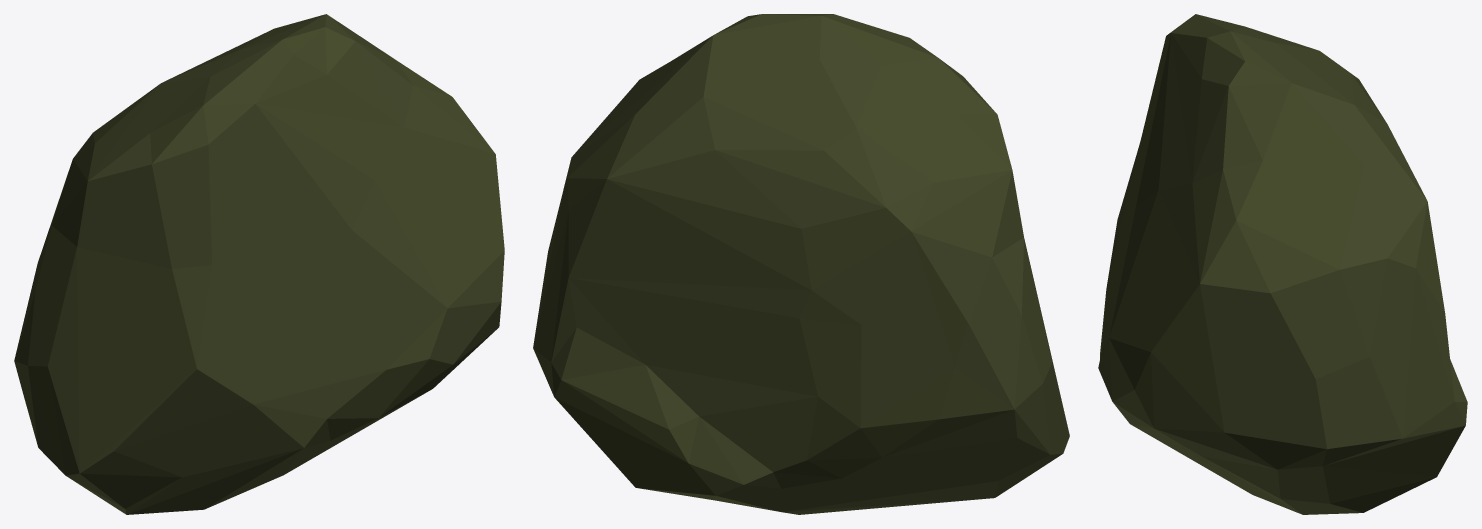
File: SM_small_rock_23.fbx
3 renders of one model, left to right at view 1: azimuth 30°, elevation 25°; view 2: azimuth 150°, elevation 25°; view 3: azimuth 270°, elevation 25°, orthographic. The views are drawn at different scales.
Visible parts, largest first — view 1: small_rock_23; view 2: small_rock_23; view 3: small_rock_23.
Part boxes in pixels (x1,y1,x2,y2): small_rock_23: (14,14,504,514); small_rock_23: (533,14,1069,514); small_rock_23: (1098,14,1467,514).
Bounding box in the file's own units: 11.02 × 10.05 × 7.66.
